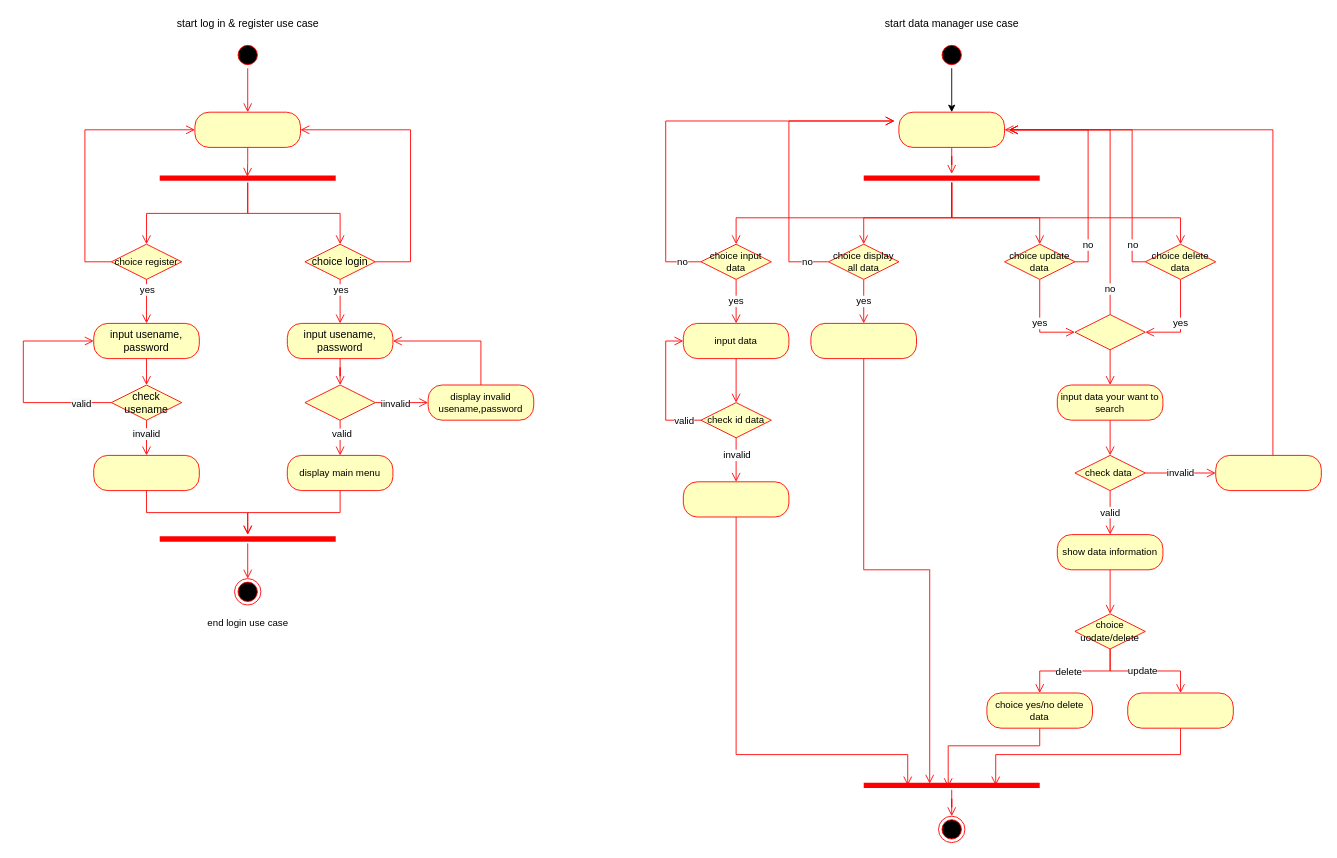
Image size: 1337x858. Some labels were removed from this diagram. Here are the shapes that lost their labels. From the top down, the box of each, then its label:
(194, 111, 301, 147): show log in form
(898, 111, 1005, 147): show menu data manager
(810, 323, 917, 359): show all data
(1074, 314, 1145, 350): choice search data
(304, 384, 375, 420): check usename & password
(93, 455, 199, 491): display: successful
(1215, 455, 1321, 491): display: invalid
(682, 481, 789, 517): display: add data successful
(1127, 692, 1233, 728): input update data
